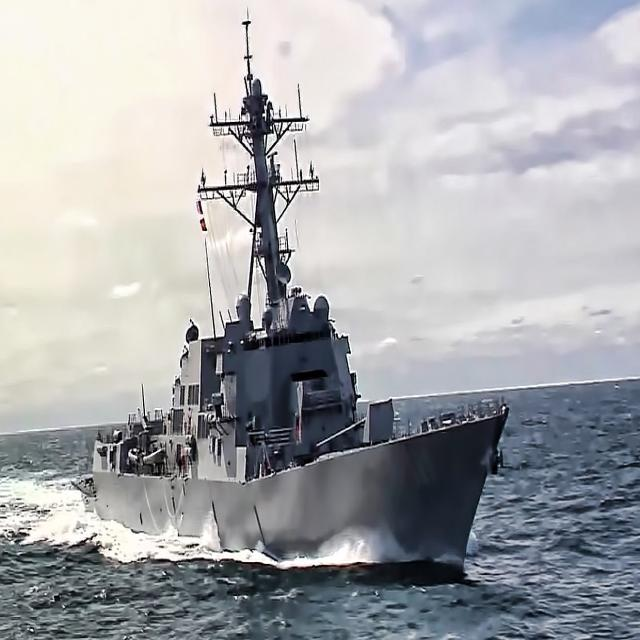navalvessels: (72, 24, 516, 570)
